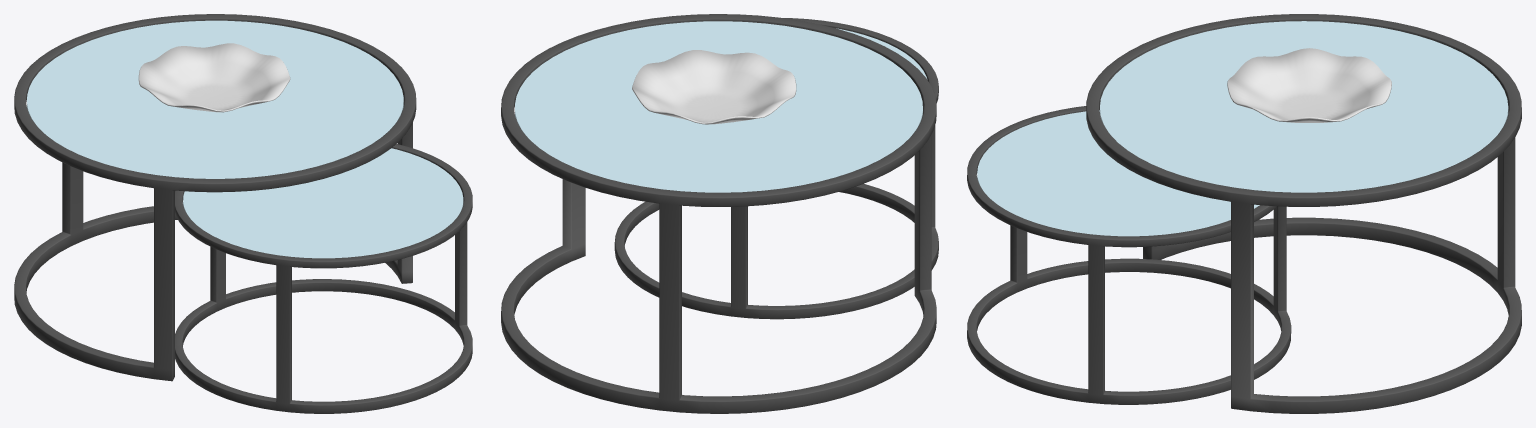
Rendered from coffee_table_-_modern_circular_glass__metal.glb.
3 renders of one model, left to right at view 1: azimuth 30°, elevation 25°; view 2: azimuth 150°, elevation 25°; view 3: azimuth 270°, elevation 25°, orthographic. The views are drawn at different scales.
Parts seen in each view (by area): view 1: Circle.003_3, Circle.002_2, Circle.001_1, Circle_0, Circle.004_4; view 2: Circle.003_3, Circle.002_2, Circle_0, Circle.004_4; view 3: Circle.003_3, Circle.002_2, Circle_0, Circle.001_1, Circle.004_4.
Part boxes in pixels (x1,y1,x2,y2): Circle.003_3: [27, 20, 403, 178]; Circle.002_2: [14, 14, 416, 381]; Circle.001_1: [183, 148, 463, 258]; Circle_0: [175, 144, 472, 413]; Circle.004_4: [138, 43, 290, 112]; Circle.003_3: [515, 21, 922, 192]; Circle.002_2: [501, 14, 936, 413]; Circle_0: [614, 18, 938, 319]; Circle.004_4: [632, 50, 796, 124]; Circle.003_3: [1100, 21, 1508, 192]; Circle.002_2: [1086, 14, 1521, 413]; Circle_0: [967, 106, 1291, 404]; Circle.001_1: [977, 110, 1259, 236]; Circle.004_4: [1227, 48, 1391, 122].
Bounding box in the file's own units: 3.13 × 1.91 × 3.98.
